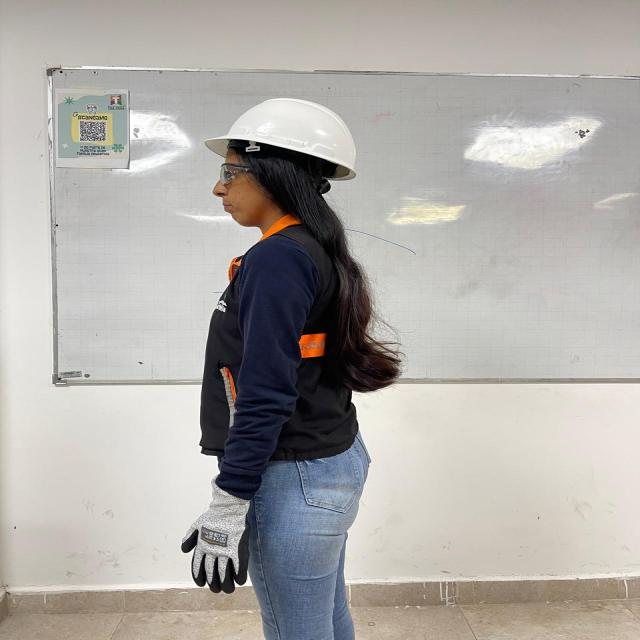gloves: (181, 482, 249, 593)
helmet: (204, 98, 355, 181)
protective_glasses: (219, 163, 259, 185)
